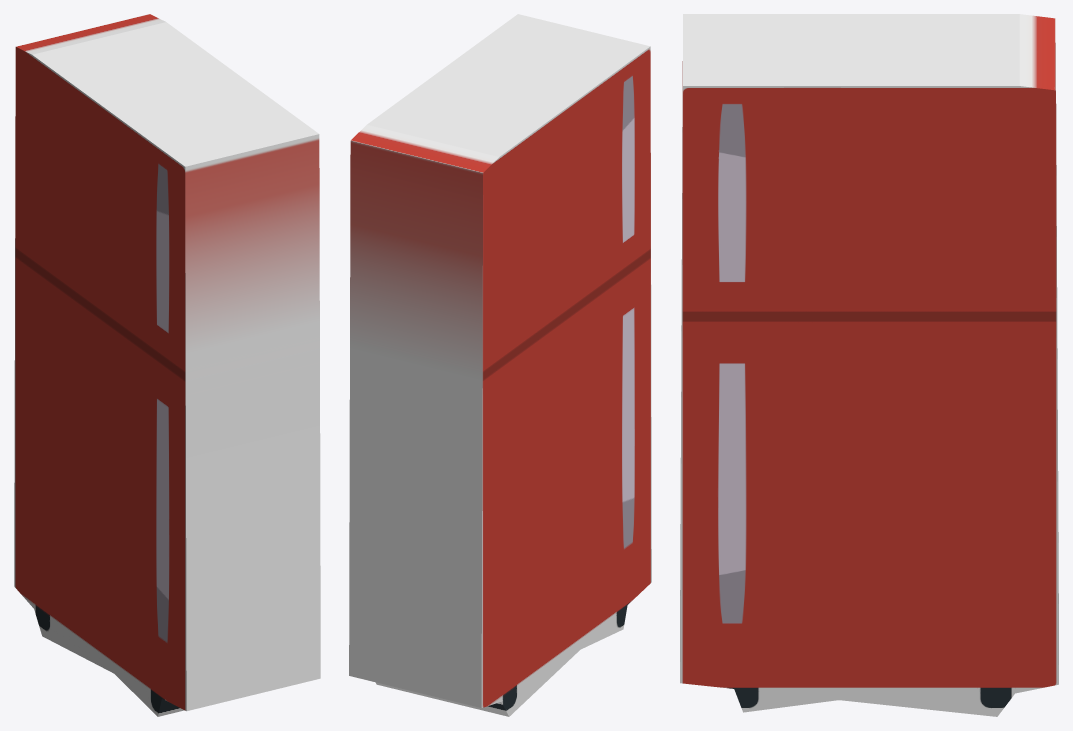
The model's file is firdge3d.gltf.
The picture shows the model from 3 angles, left to right: view 1: azimuth 30°, elevation 25°; view 2: azimuth 150°, elevation 25°; view 3: azimuth 270°, elevation 25°; orthographic projection. The views are drawn at different scales.
Visible parts, largest first — view 1: firdge; view 2: firdge; view 3: firdge.
Boxes of the visible parts, bbox=[...] form: firdge: bbox=[14, 14, 320, 716]; firdge: bbox=[349, 14, 651, 716]; firdge: bbox=[680, 14, 1058, 716].
Size of the model in its own units: 1.72 by 7.02 by 3.82.
1 material, 1 textured.
